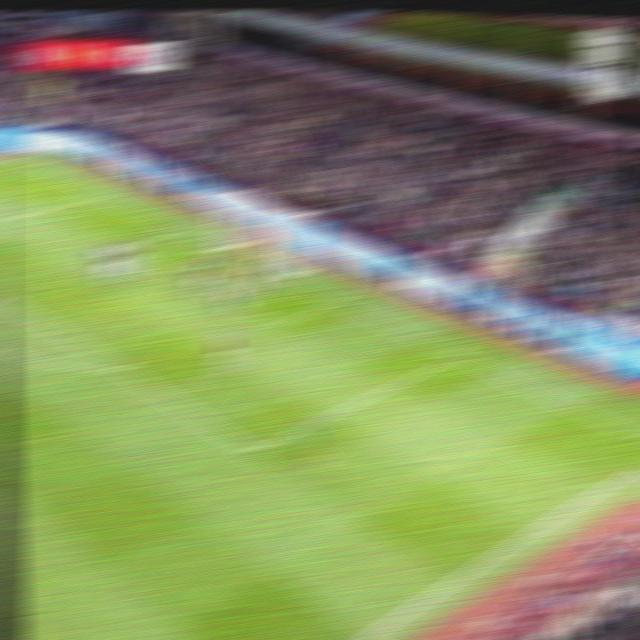bigarea_bottom_inner: (234, 435, 267, 464)
bigarea_bottom_outter: (441, 344, 470, 365)
bigarea_top_outter: (88, 188, 113, 203)
bottom_arc_area_intersection: (104, 355, 133, 377)
corner: (1, 151, 31, 165)
smallarea_bottom_inner: (259, 310, 289, 333)
smallarea_bottom_outter: (320, 291, 348, 309)
smallarea_top_outter: (163, 222, 191, 238)
